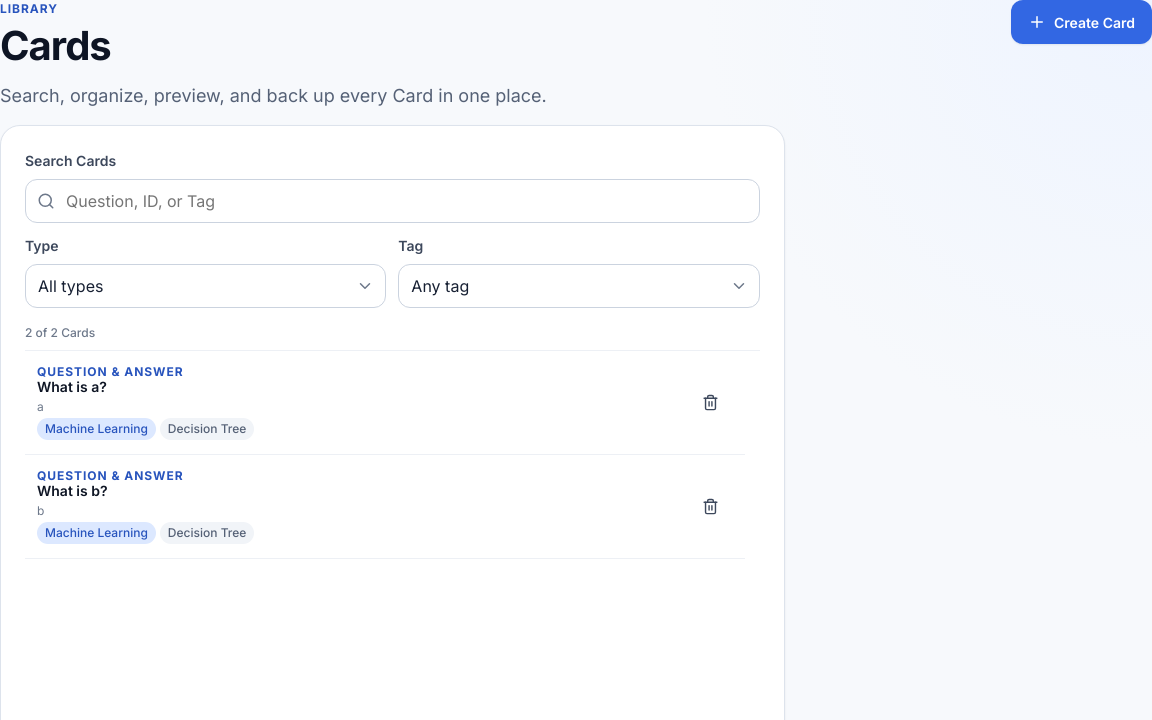
Test: a row button opens the Card preview of its Card
The image size is (1152, 720).
Click the 4th button at x=110, y=475, box [37,467,677,546]
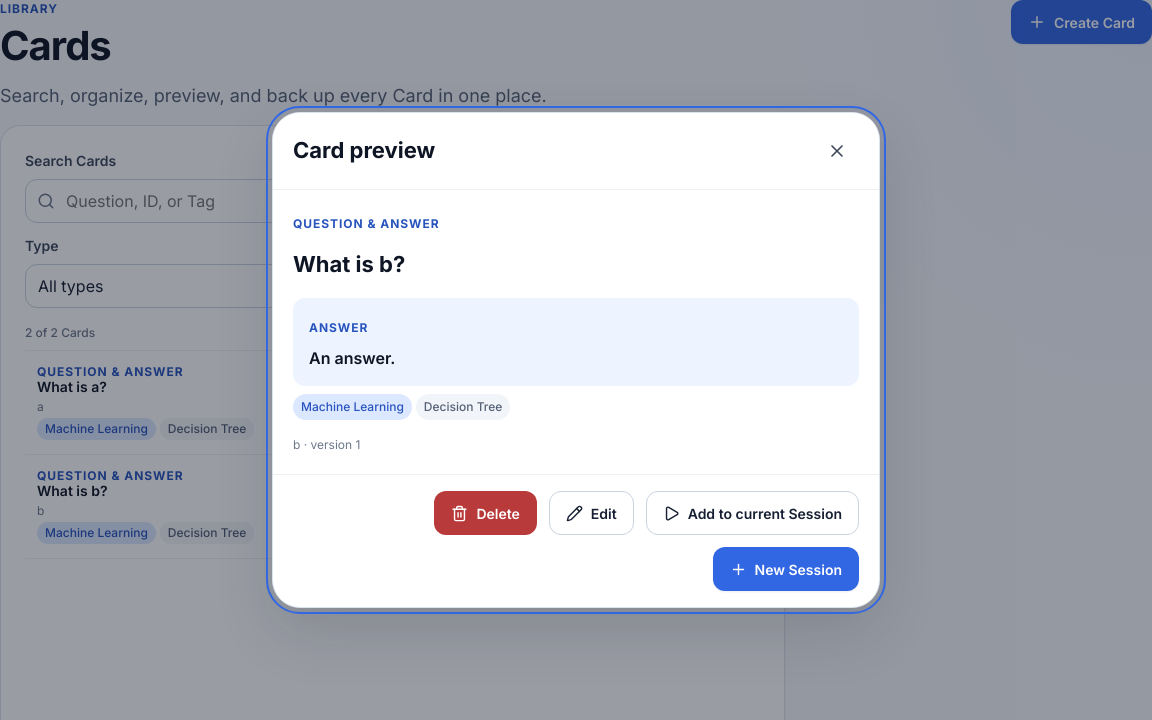
Now the heading "What is b?" is shown, box [293,251,405,277]
